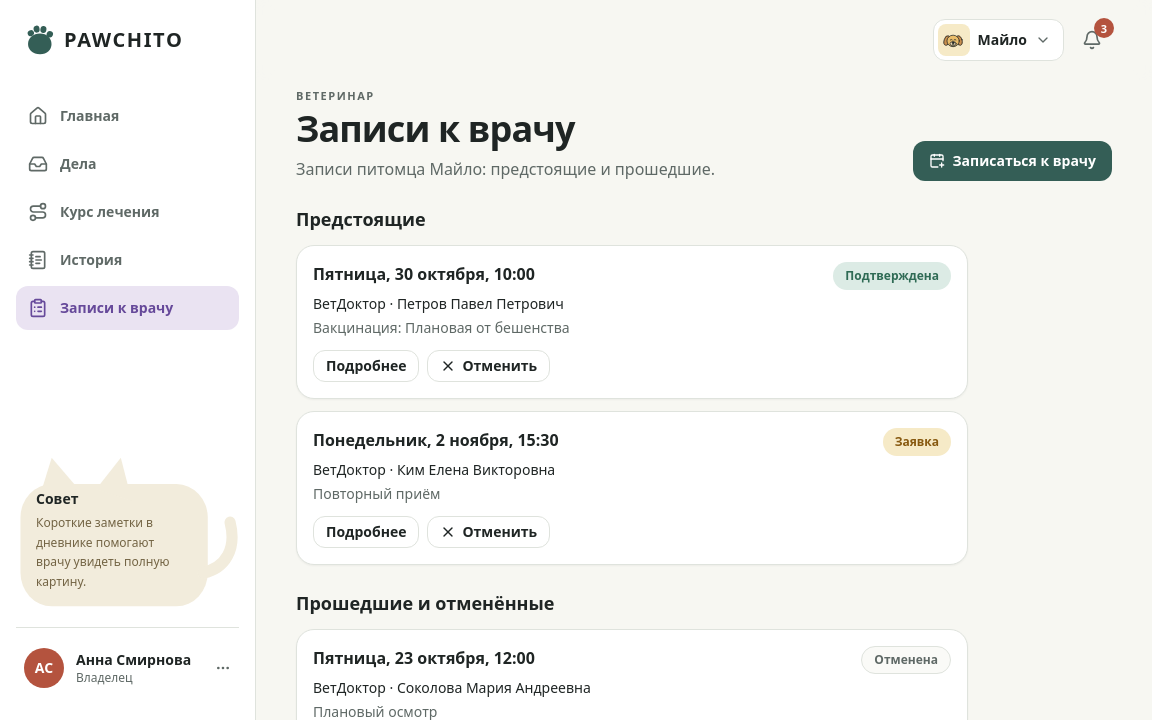
it: AppointmentsPage › отмена с подтверждением: запись уходит в прошедшие, статус, фокус на списке
Click the button named "Отменить, запись на понедельник, 2 ноября, 15:30" at (489, 532), box [428, 516, 550, 548]
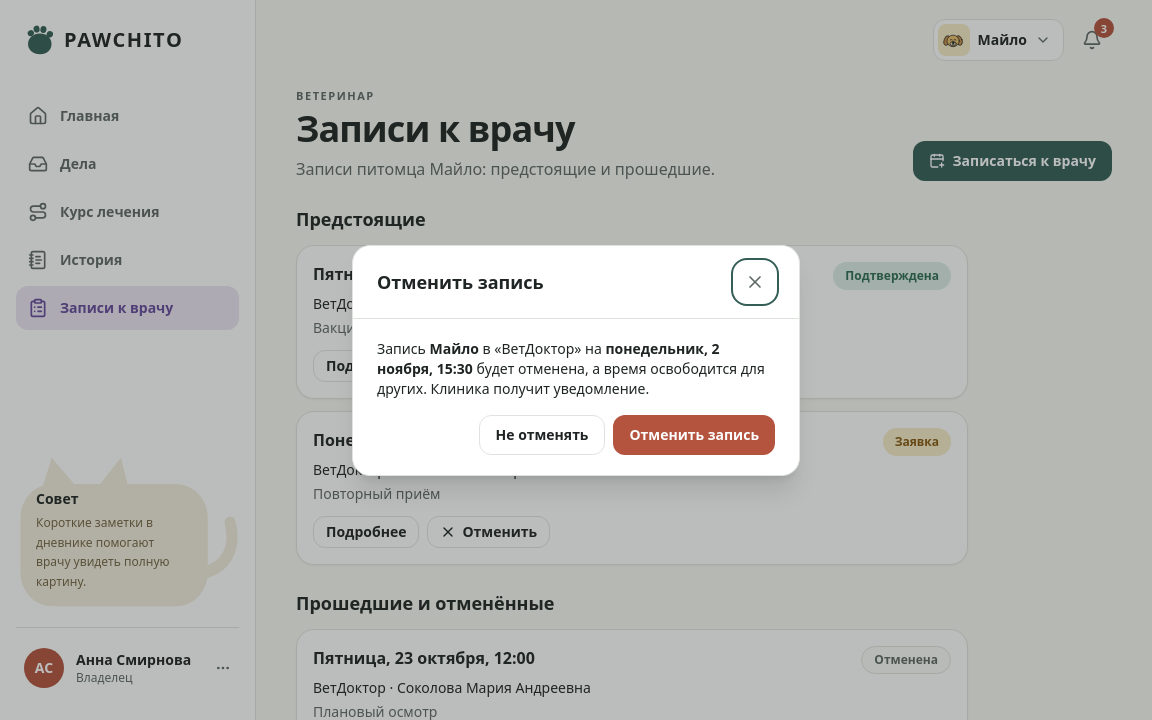
Result: the text "будет отменена" is shown at [377, 358, 765, 398]
Click the button "Отменить запись" at (694, 434), box [614, 414, 775, 454]
(page scrolled)
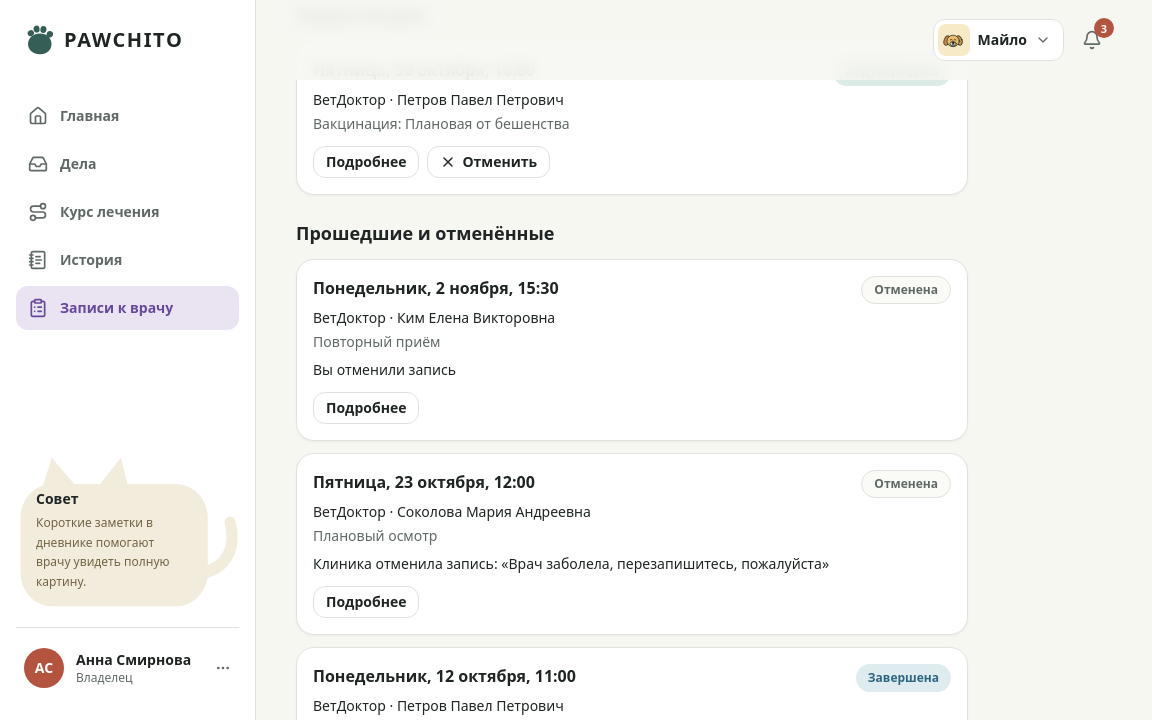
Result: the text "Вы отменили запись" is shown at [313, 360, 456, 378]
